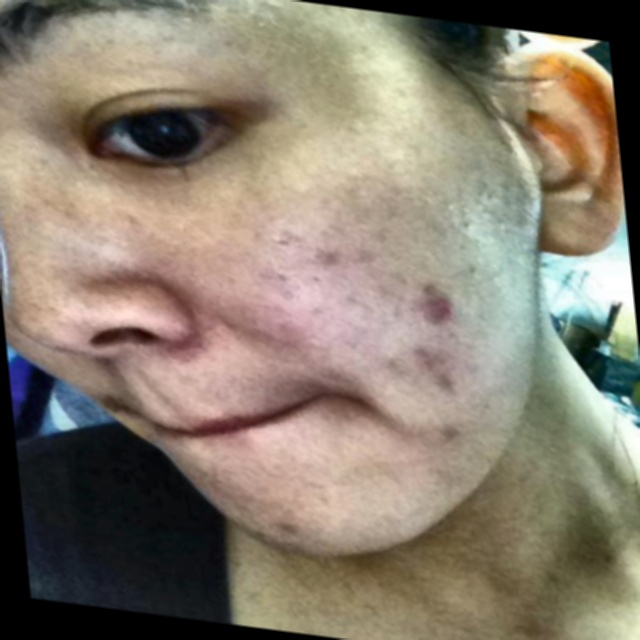comedone: (406, 341, 457, 393), (409, 279, 456, 324), (264, 514, 304, 546)
